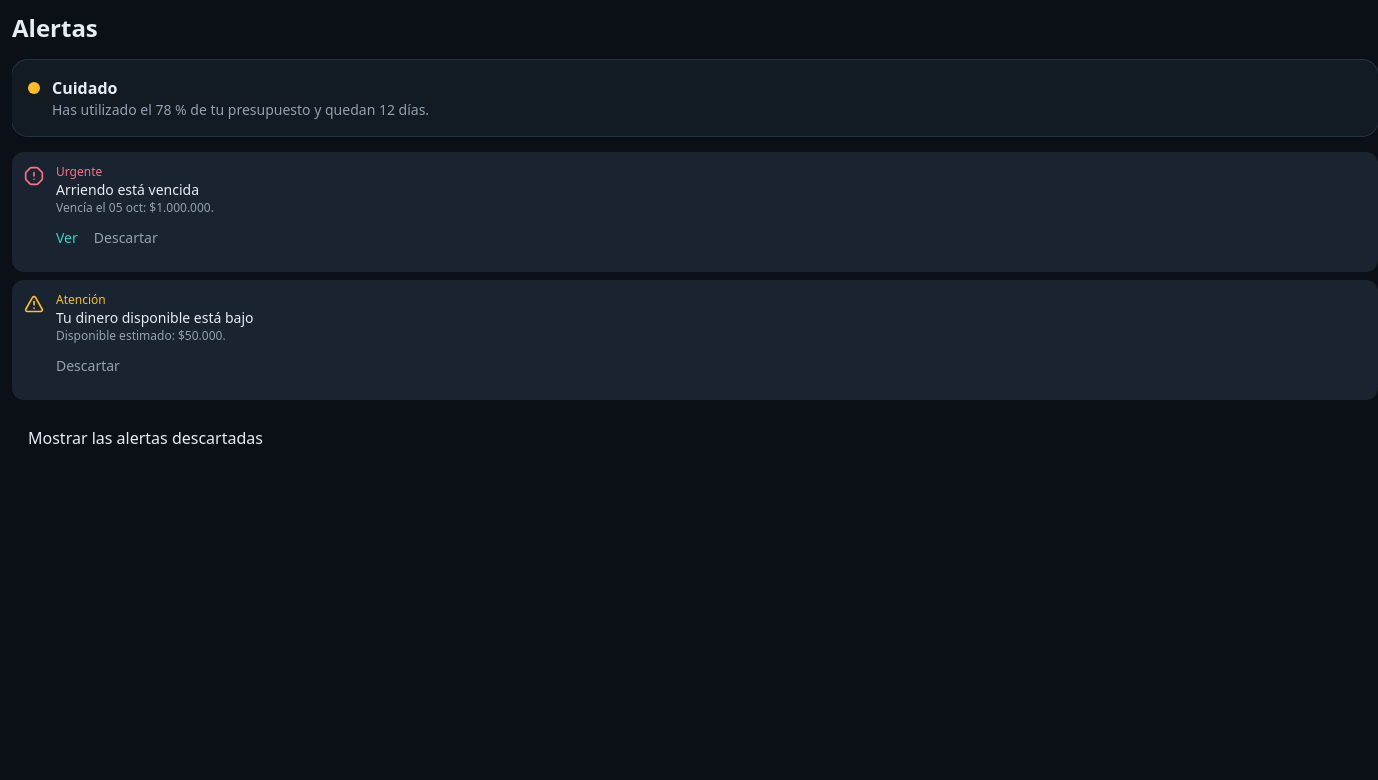
Test: AlertsPage (spec 8.12) › keeps the alert and shows the error when dismissing fails
Click the button with aria-label "Descartar: Tu dinero disponible está bajo" at (88, 366), box [56,344,120,388]
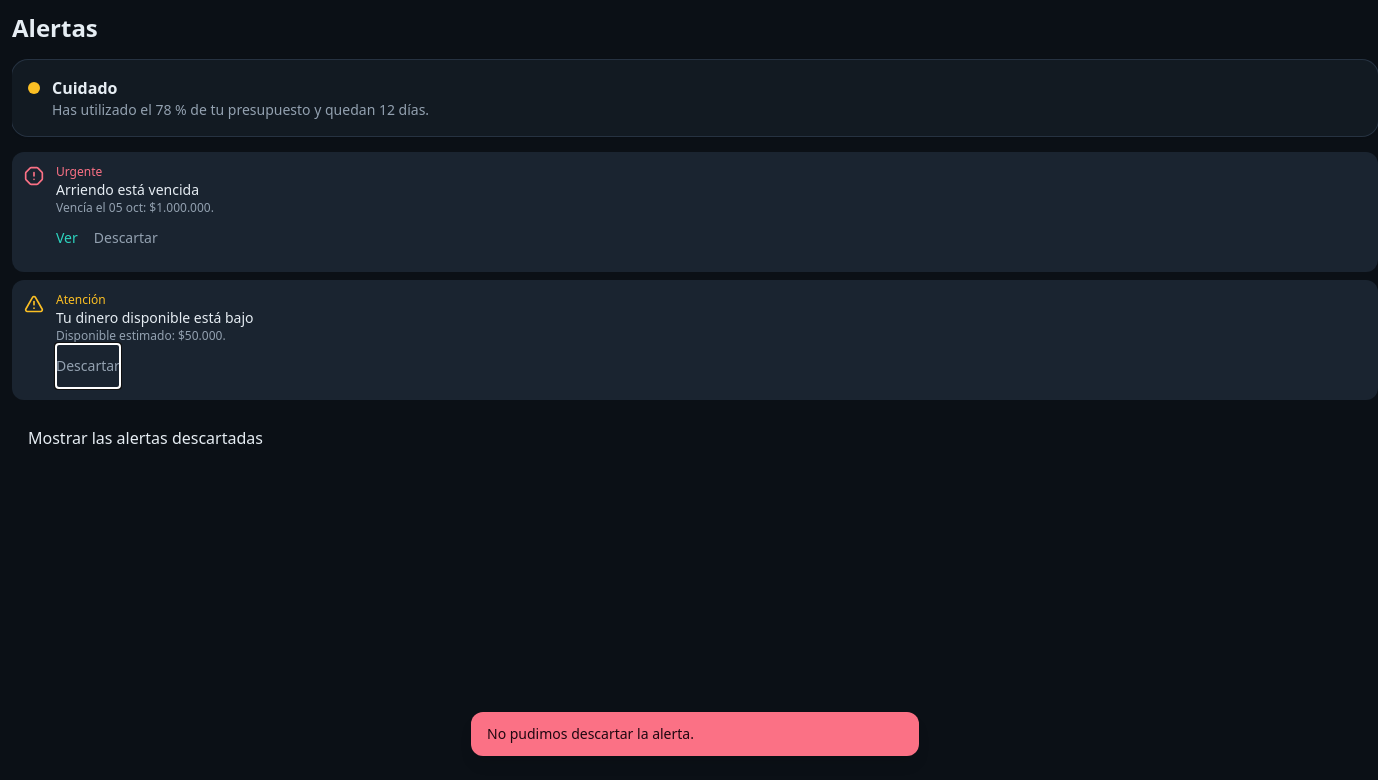
Check: the text "Tu dinero disponible está bajo" is shown, box [56,308,254,327]
Check: the text "No pudimos descartar la alerta." is shown, box [471,712,919,756]
